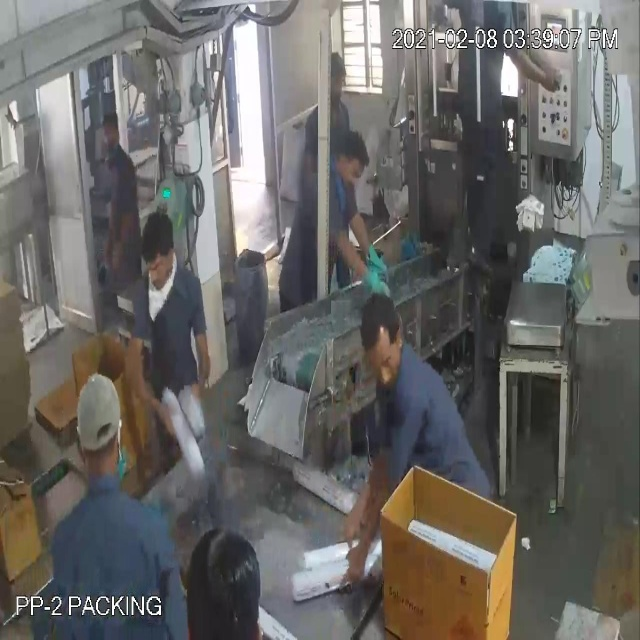Sin_guantes: (348, 430, 398, 587), (121, 326, 181, 443), (189, 309, 212, 406)
